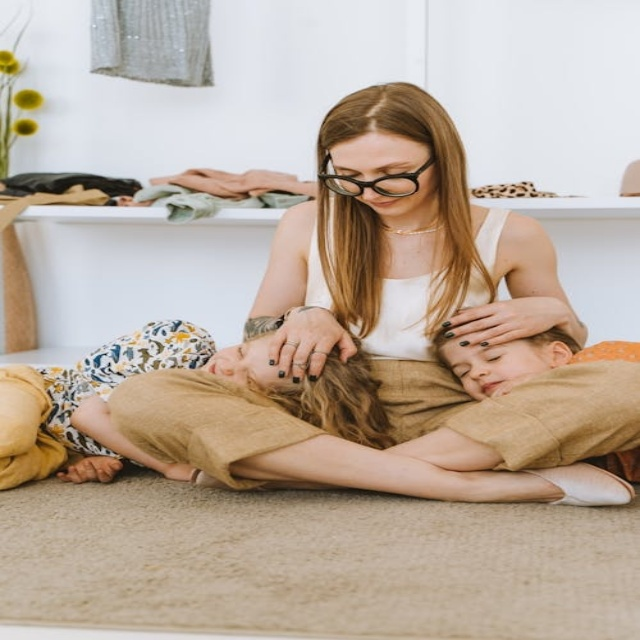Gafas: (319, 151, 435, 197)
Sin_gafas: (449, 341, 517, 378)
Sin_guantes: (261, 306, 356, 380), (444, 294, 562, 343)
Sin_mascara: (471, 373, 511, 395), (361, 200, 408, 215)
